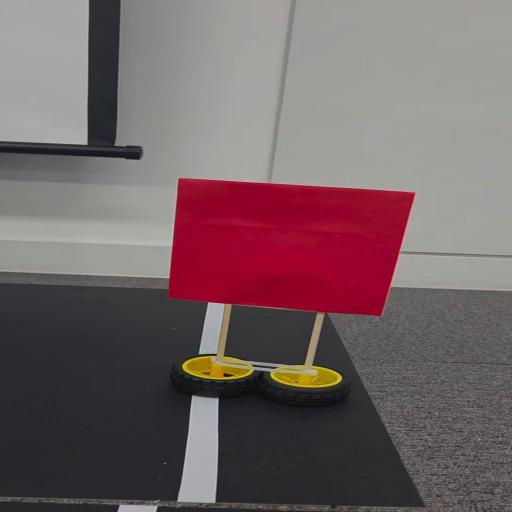Sign_A: (150, 176, 410, 405)
